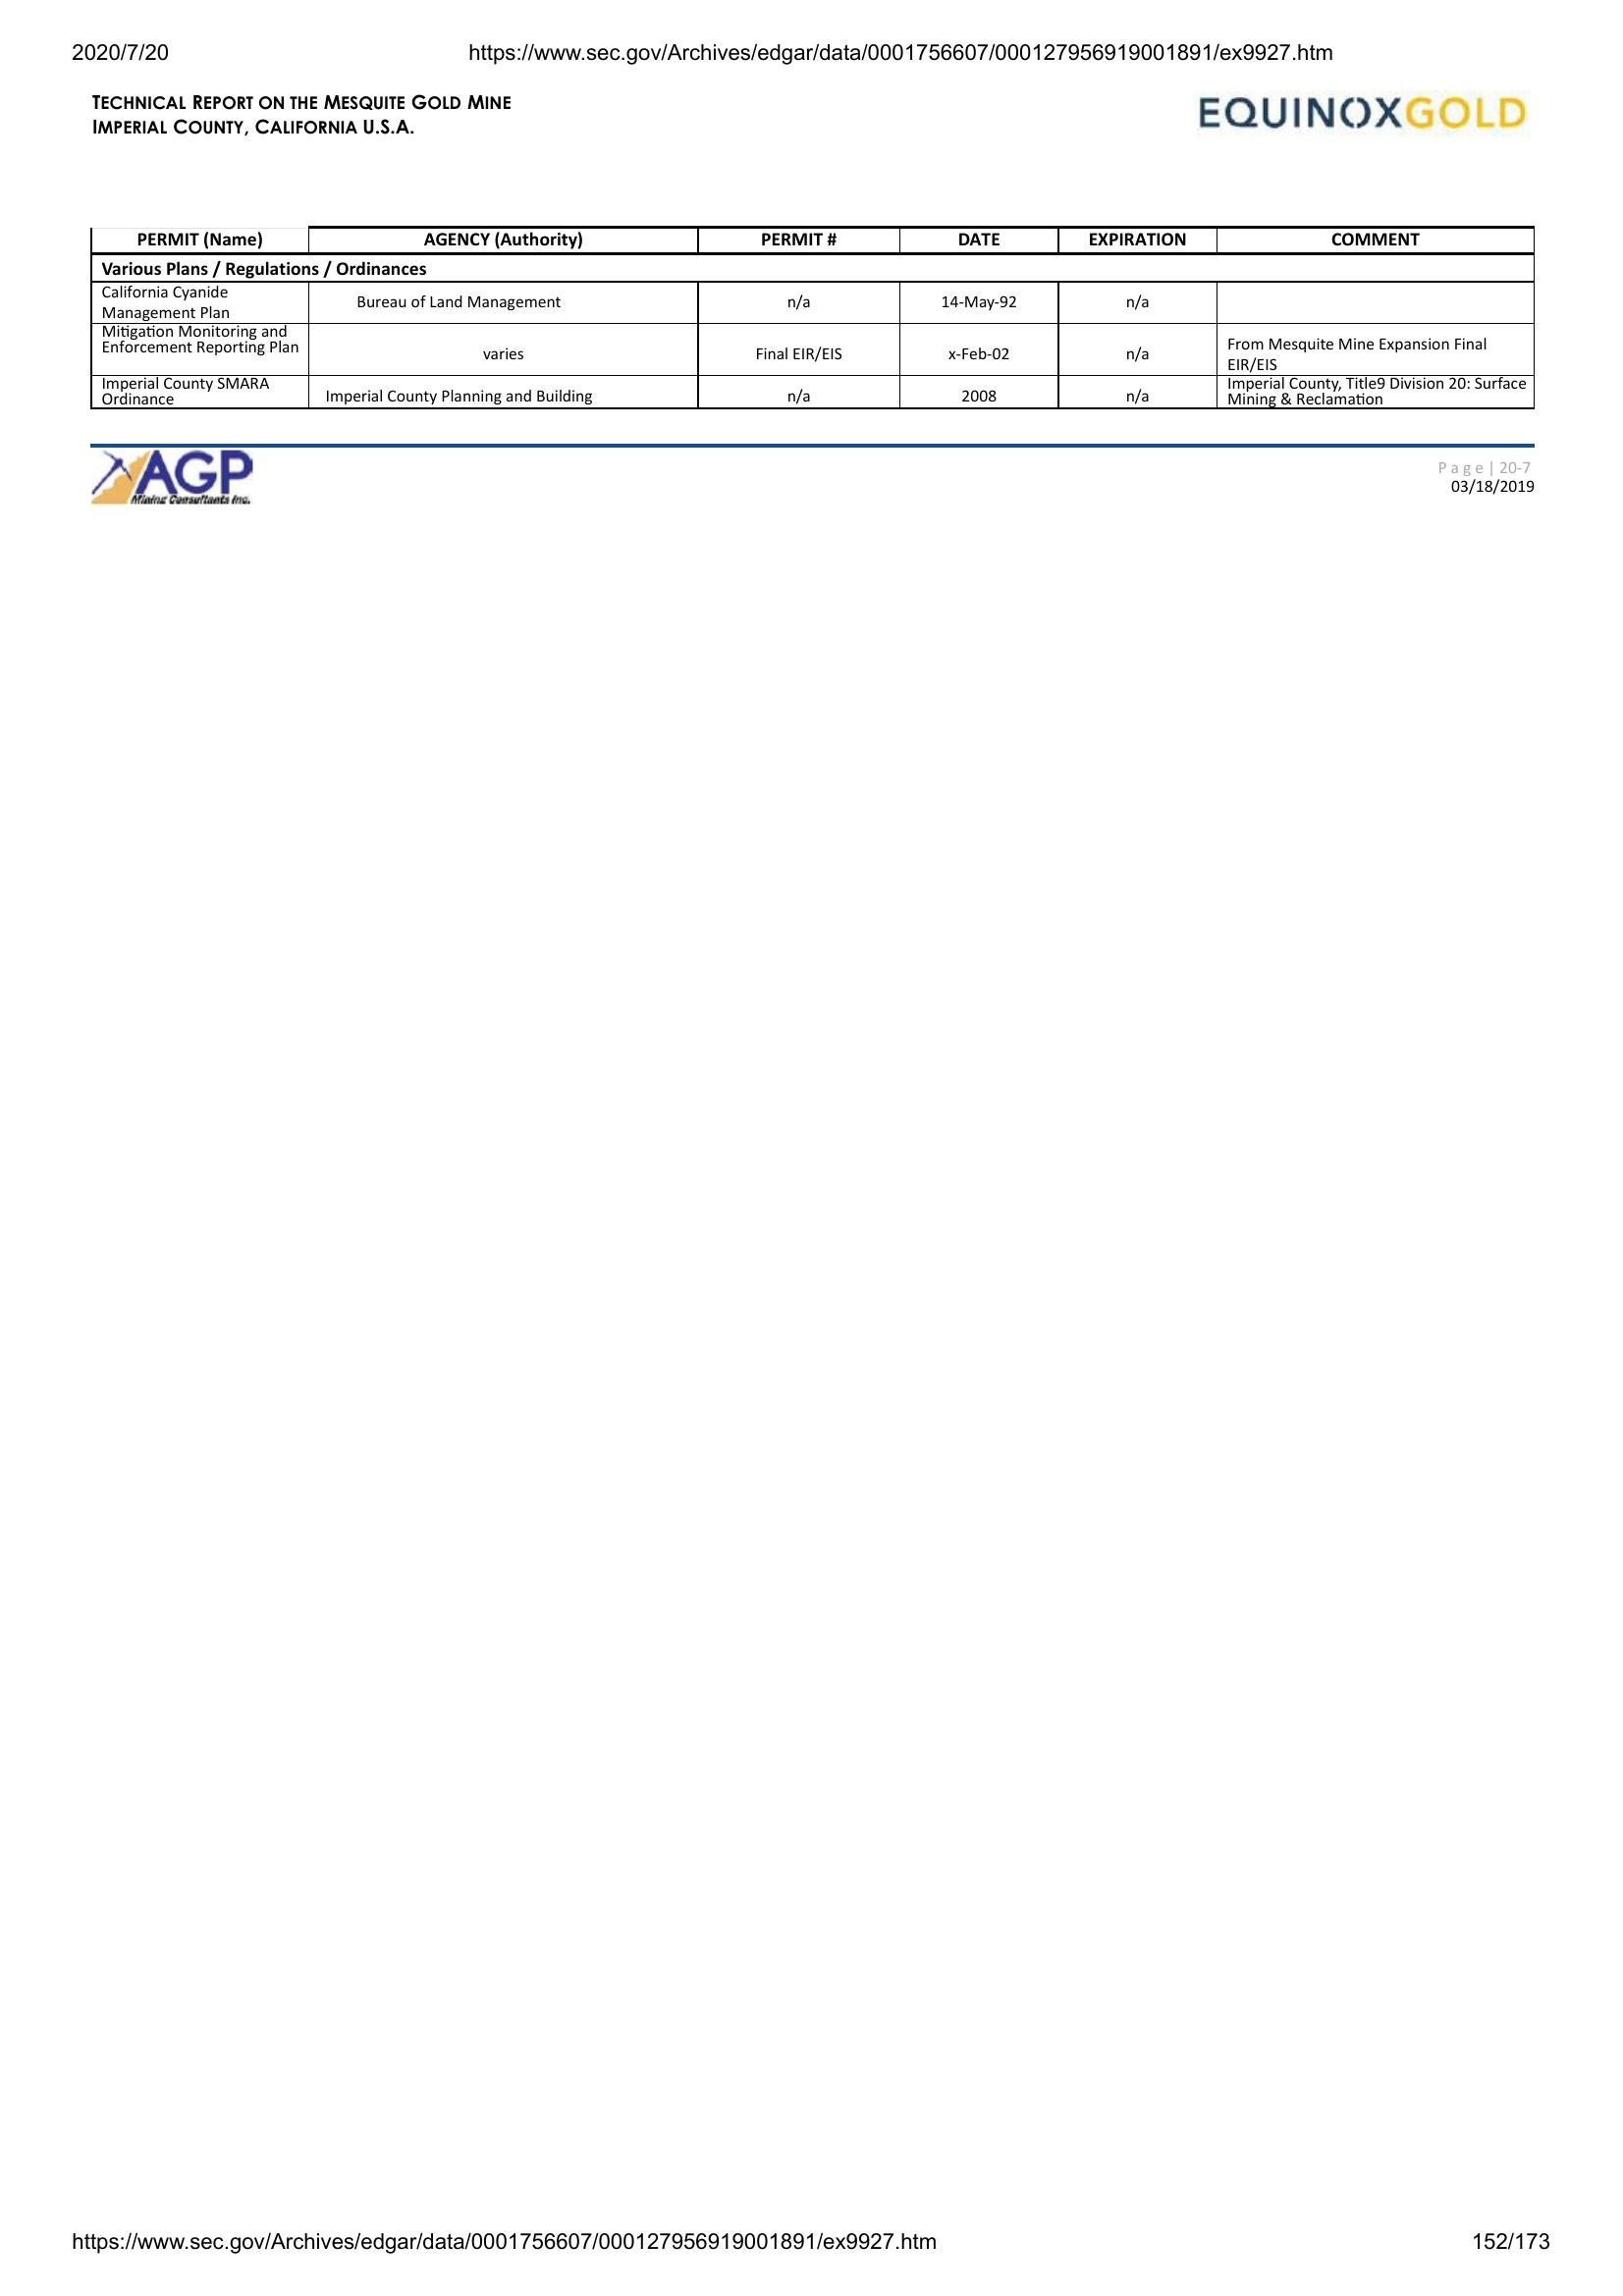table: (84, 221, 1539, 421)
